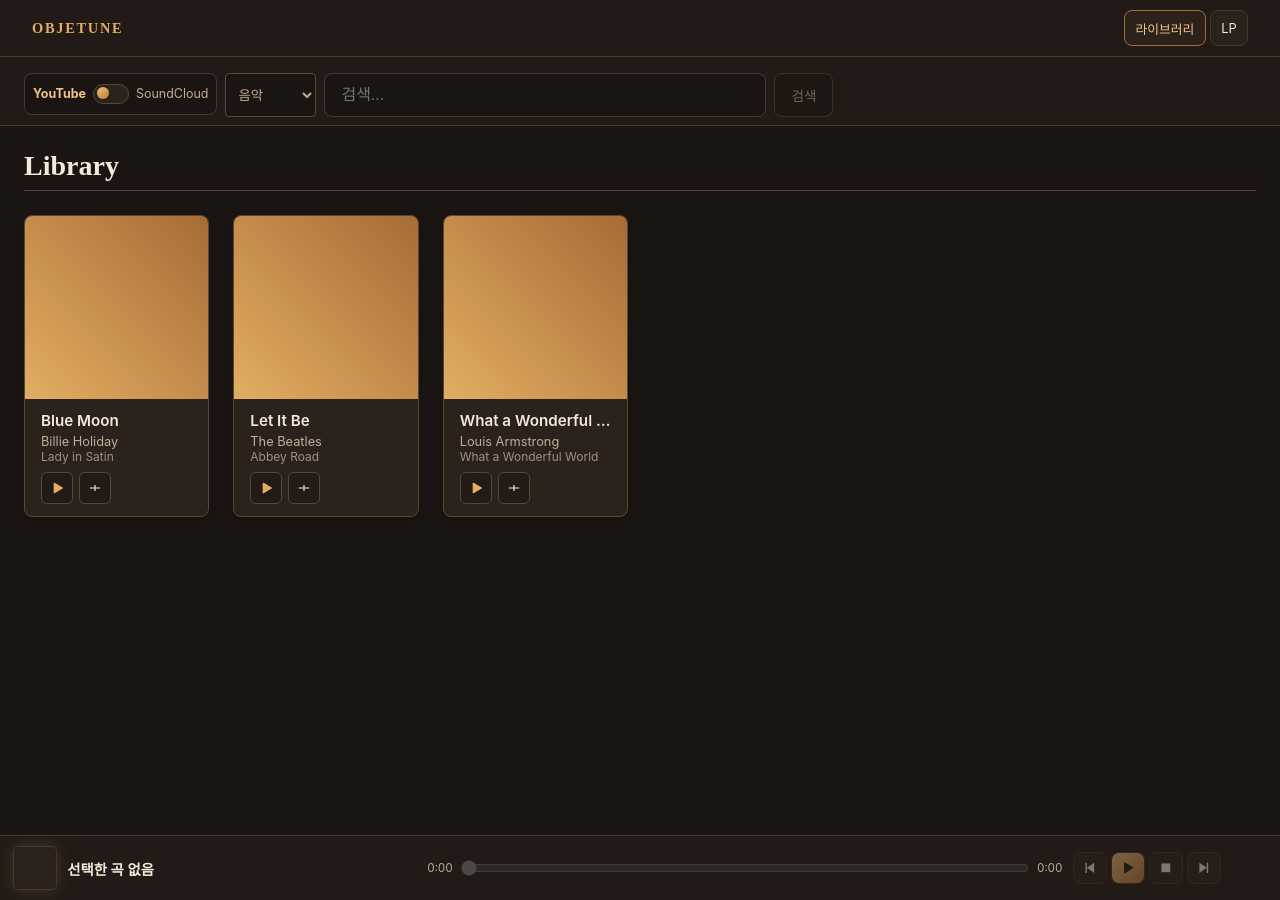
Test: App › shows empty state when no results
Type "nonexistent-song-xyz" into the search field named "Search music" at x=545, y=95, box [324,73,766,117]
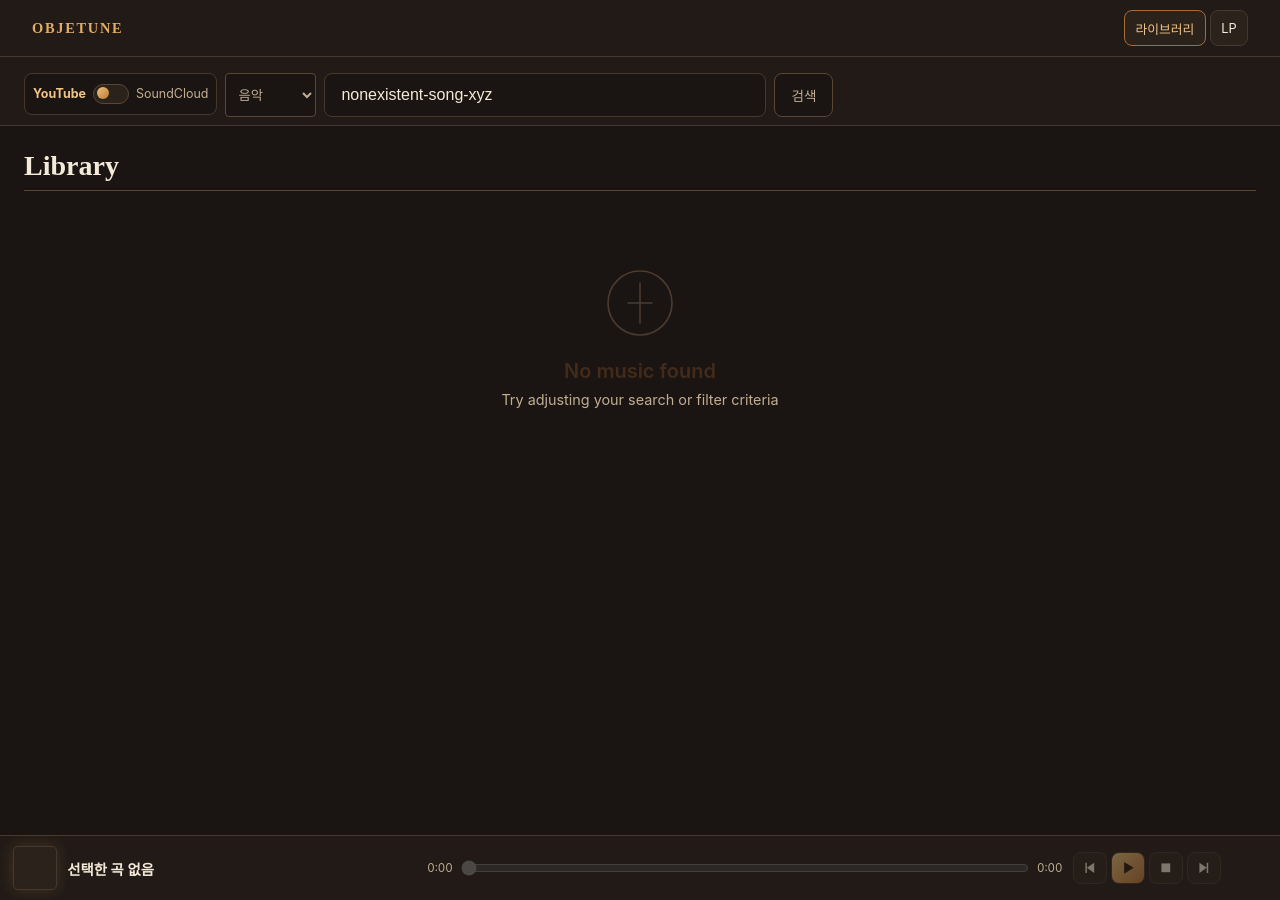
Expected: the heading "No music found" is shown, [564,359,716,383]
